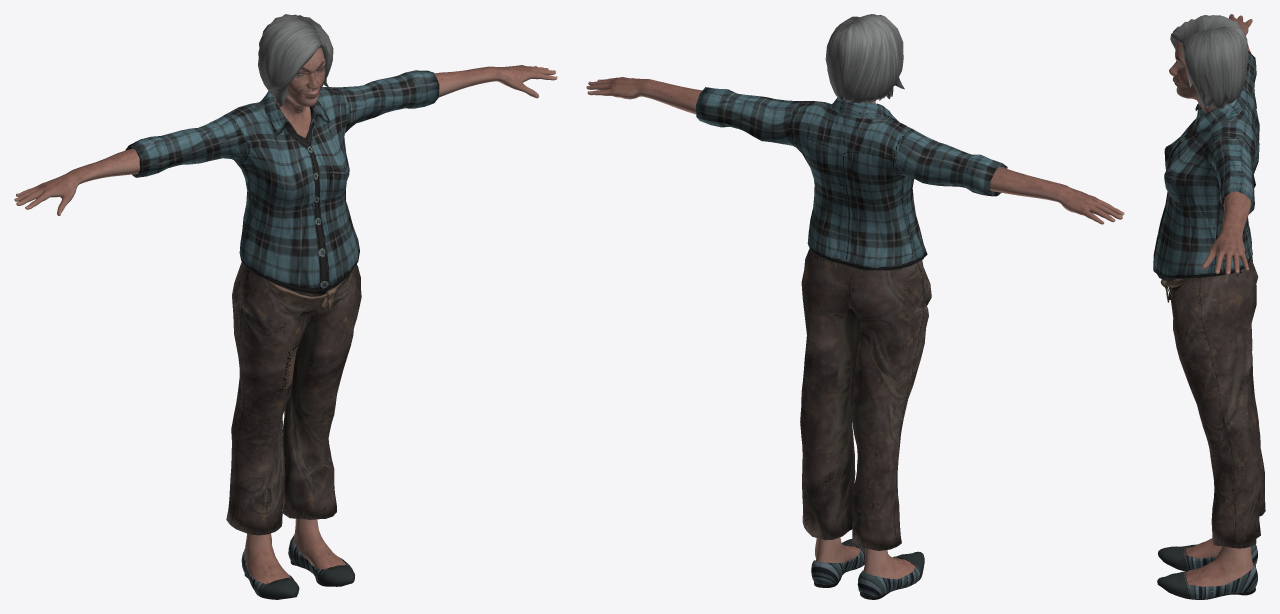
Rendered from Woman C.obj.
3 views of the same model, side by side, from view 1: azimuth 30°, elevation 25°; view 2: azimuth 150°, elevation 25°; view 3: azimuth 270°, elevation 25° (orthographic).
Visible parts, largest first — view 1: Tops, Bottoms, Body, Hair, Shoes; view 2: Bottoms, Tops, Body, Hair, Shoes; view 3: Bottoms, Tops, Body, Hair, Shoes.
Part boxes in pixels (bbox=[...]): Tops: bbox=[125, 70, 439, 294]; Bottoms: bbox=[226, 262, 361, 535]; Body: bbox=[14, 47, 557, 583]; Hair: bbox=[258, 14, 333, 107]; Shoes: bbox=[241, 534, 354, 599]; Bottoms: bbox=[800, 248, 931, 550]; Tops: bbox=[696, 87, 1007, 270]; Body: bbox=[586, 77, 1124, 580]; Hair: bbox=[825, 14, 904, 103]; Shoes: bbox=[811, 539, 924, 599]; Bottoms: bbox=[1160, 256, 1265, 548]; Tops: bbox=[1153, 51, 1259, 280]; Body: bbox=[1169, 14, 1253, 592]; Hair: bbox=[1170, 15, 1248, 108]; Shoes: bbox=[1157, 544, 1257, 599].
Size of the model in its own units: 179 by 179 by 32.36.
Materials: 5 (5 with a texture image).
